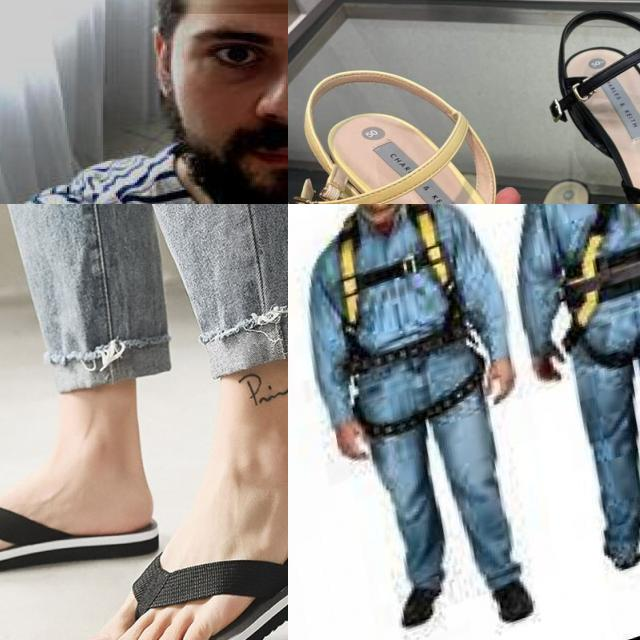Harness: (338, 204, 484, 438), (564, 204, 640, 348)
No_Glasses: (182, 11, 288, 97)
Sandals: (288, 60, 640, 204), (89, 435, 288, 640), (531, 0, 640, 204), (0, 475, 162, 571)
face_nomask: (175, 4, 288, 204)
person: (0, 0, 288, 204)
